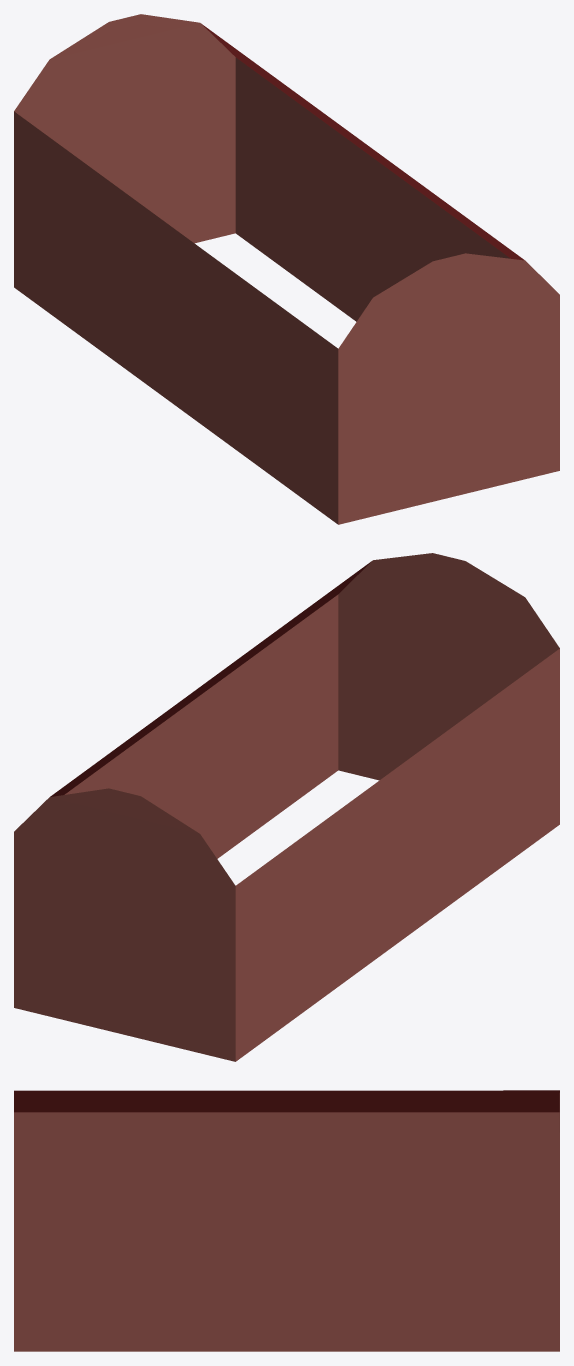
Rendered from ProductionBuilding.fbx.
3 views of the same model, one above another, from view 1: azimuth 30°, elevation 25°; view 2: azimuth 150°, elevation 25°; view 3: azimuth 270°, elevation 25° (orthographic). The views are drawn at different scales.
Visible parts, largest first — view 1: Cube; view 2: Cube; view 3: Cube.
Boxes of the visible parts, x1=… form: Cube: x1=14, y1=14, x2=559, y2=524; Cube: x1=14, y1=553, x2=559, y2=1061; Cube: x1=14, y1=1090, x2=559, y2=1351.
Size of the model in its own units: 1414 by 1479 by 3585.
